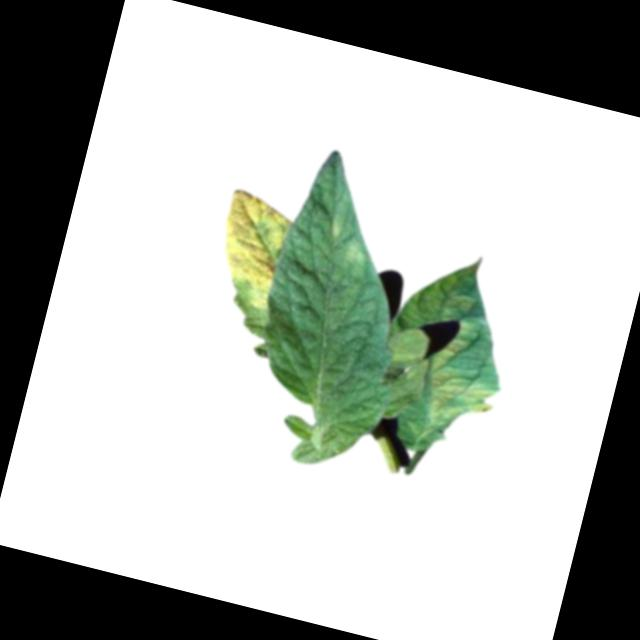Leaf_Mold: (371, 256, 528, 444), (203, 186, 299, 316), (321, 215, 378, 268)
